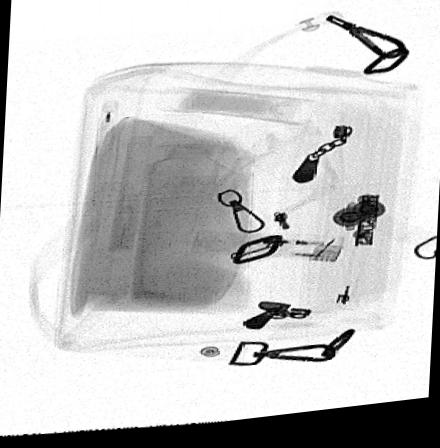Lighter: (192, 236, 343, 271)
